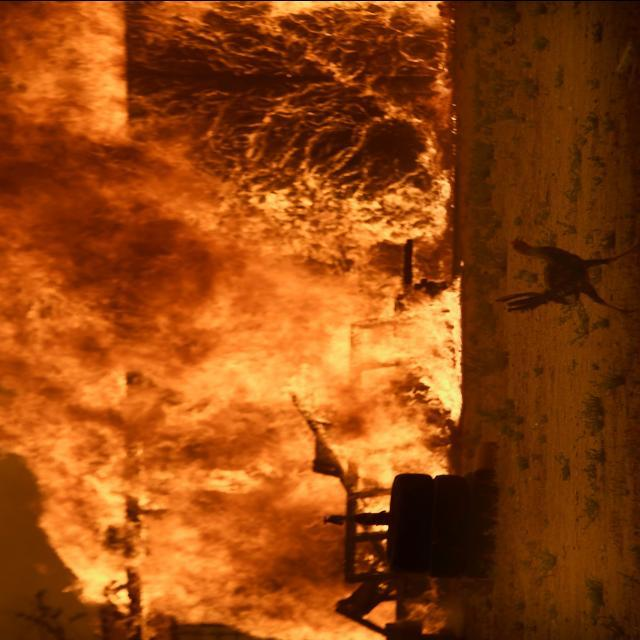Fire: (8, 0, 466, 637)
